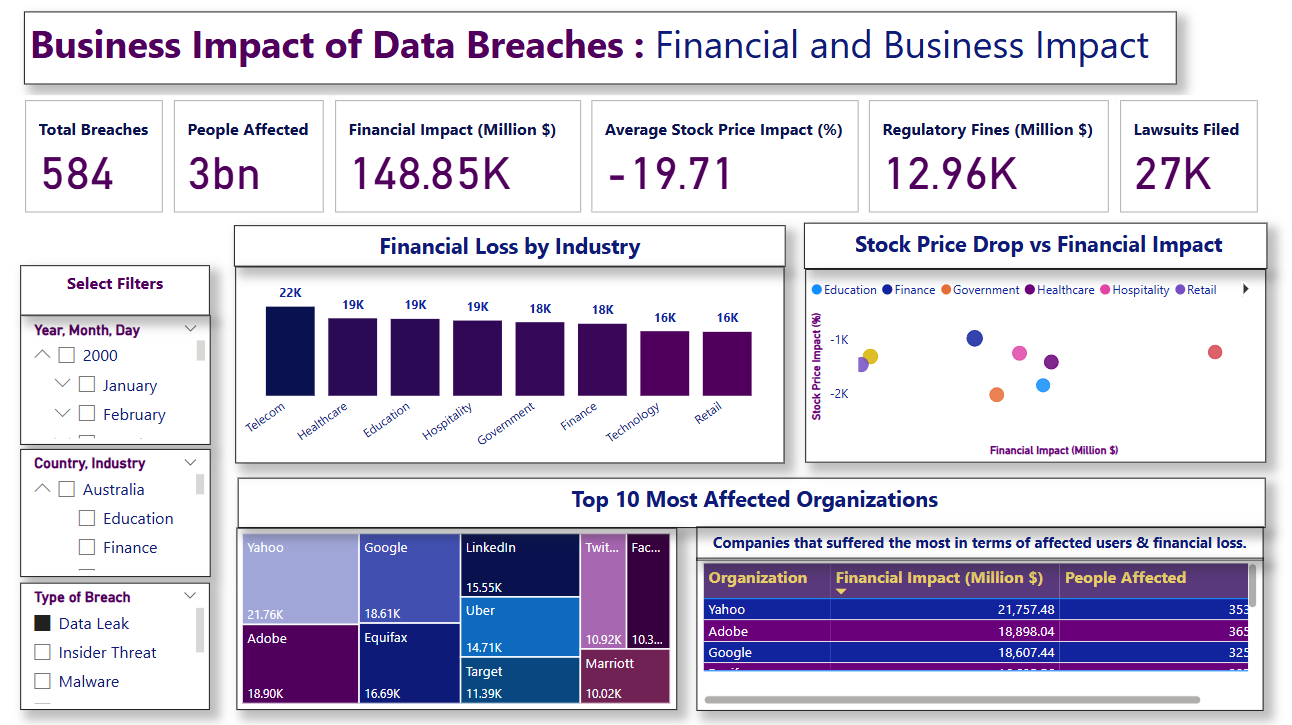

The page's visual inventory and layout, read from the dashboard file:
{"tool":"powerbi","page":{"name":"Financial & Business Impact","canvas":[1280,720],"ordinal":1},"visuals":[{"type":"textbox","box":[232.2,223.3,545.1,40.6],"z":0,"group":"g7"},{"type":"group","id":"g1","title":"Group 8","box":[20.6,312.8,188.1,389.5],"z":0,"group":"g5"},{"type":"group","id":"g2","title":"Group 1","box":[235.1,473.1,1016,230.5],"z":0},{"type":"group","id":"g3","title":"Group 2","box":[232.2,223.3,545.1,235.1],"z":1000},{"type":"textbox","box":[20.6,263,187.6,49.8],"z":1000,"group":"g5"},{"type":"group","id":"g4","title":"Group 3","box":[794.7,221.4,457.8,237.3],"z":2000},{"type":"textbox","box":[794.7,221.4,457.8,45.8],"z":2000,"group":"g4"},{"type":"group","id":"g5","title":"Group 9","box":[20.6,263,188.1,440.8],"z":3000},{"type":"clusteredColumnChart","fields":{"Y":["Sum(Sheet1.Financial Impact (Million $))"],"Category":["Sheet1.Industry"]},"box":[233,264.3,542.2,194.1],"z":3000,"group":"g7"},{"type":"slicer","fields":{"Values":["Sheet1.Date of Breach.Variation.Date Hierarchy.Year","Sheet1.Date of Breach.Variation.Date Hierarchy.Month","Sheet1.Date of Breach.Variation.Date Hierarchy.Day"]},"box":[20.6,312.8,188.1,127.9],"z":3000,"group":"g1"},{"type":"textbox","box":[25,11.8,1138.8,72],"z":4000},{"type":"scatterChart","fields":{"Y":["Sum(Sheet1.Stock Price Impact (%))"],"Size":["Avg(Sheet1.People Affected)"],"X":["Sum(Sheet1.Financial Impact (Million $))"],"Series":["Sheet1.Industry"]},"box":[796.5,267.2,455.4,191.6],"z":4000,"group":"g4"},{"type":"slicer","fields":{"Values":["Sheet1.Country","Sheet1.Industry"]},"box":[20.6,444.8,187.7,126.4],"z":4000,"group":"g1"},{"type":"group","id":"g6","title":"Group 7","box":[20.6,95.5,1228.4,122],"z":5000},{"type":"slicer","fields":{"Values":["Sheet1.Type of Breach"]},"box":[20.8,576.9,187.6,125.4],"z":5000,"group":"g1"},{"type":"group","id":"g7","title":"Group 4","box":[232.2,223.3,545.1,235.1],"z":5001,"group":"g3"},{"type":"cardVisual","fields":{"Data":["Avg(Sheet1.Stock Price Impact (%))"]},"box":[579.9,95.5,274.5,122],"z":6000,"group":"g6"},{"type":"tableEx","fields":{"Values":["Sheet1.Organization","Sheet1.Financial Impact (Million $)","Sum(Sheet1.People Affected)"]},"box":[689,552.2,559.8,151.3],"z":6000,"group":"g2"},{"type":"cardVisual","fields":{"Data":["Sheet1.Total Breaches"]},"box":[20.6,95.5,146.9,122],"z":7000,"group":"g6"},{"type":"treemap","fields":{"Group":["Sheet1.Organization"],"Values":["Sum(Sheet1.Financial Impact (Million $))"]},"box":[235.1,522.2,435.2,180.2],"z":7000,"group":"g2"},{"type":"cardVisual","fields":{"Data":["Sum(Sheet1.Regulatory Fines (Million $))"]},"box":[854.4,95.5,247.8,122],"z":8000,"group":"g6"},{"type":"textbox","box":[235.8,473.1,1015.3,50],"z":8000,"group":"g2"},{"type":"cardVisual","fields":{"Data":["Sum(Sheet1.Lawsuits Filed)"]},"box":[1102.1,95.5,146.9,122],"z":9000,"group":"g6"},{"type":"textbox","box":[689,521.4,559.8,33.8],"z":9000,"group":"g2"},{"type":"cardVisual","fields":{"Data":["Sum(Sheet1.People Affected)"]},"box":[167.5,95.5,158.7,122],"z":10000,"group":"g6"},{"type":"cardVisual","fields":{"Data":["Sum(Sheet1.Financial Impact (Million $))"]},"box":[326.2,95.5,253.7,122],"z":11000,"group":"g6"}]}

Visuals, with their boxes in screenshot pixels (x1, y1, x2, y2), scaled from the page's 1280x720 canvas onto the 1292x725 screenshot:
textbox: [234,225,785,266]
"Group 8" group: [21,315,211,707]
"Group 1" group: [237,476,1263,708]
"Group 2" group: [234,225,785,462]
textbox: [21,265,210,315]
"Group 3" group: [802,223,1264,462]
textbox: [802,223,1264,269]
"Group 9" group: [21,265,211,709]
clusteredColumnChart - Sum(Sheet1.Financial Impact (Million $)) x Sheet1.Industry: [235,266,782,462]
slicer - Sheet1.Date of Breach.Variation.Date Hierarchy.Year x Sheet1.Date of Breach.Variation.Date Hierarchy.Month: [21,315,211,444]
textbox: [25,12,1175,84]
scatterChart - Sum(Sheet1.Stock Price Impact (%)) x Avg(Sheet1.People Affected): [804,269,1264,462]
slicer - Sheet1.Country x Sheet1.Industry: [21,448,210,575]
"Group 7" group: [21,96,1261,219]
slicer - Sheet1.Type of Breach: [21,581,210,707]
"Group 4" group: [234,225,785,462]
cardVisual - Avg(Sheet1.Stock Price Impact (%)): [585,96,862,219]
tableEx - Sheet1.Organization x Sheet1.Financial Impact (Million $): [695,556,1261,708]
cardVisual - Sheet1.Total Breaches: [21,96,169,219]
treemap - Sheet1.Organization x Sum(Sheet1.Financial Impact (Million $)): [237,526,677,707]
cardVisual - Sum(Sheet1.Regulatory Fines (Million $)): [862,96,1113,219]
textbox: [238,476,1263,527]
cardVisual - Sum(Sheet1.Lawsuits Filed): [1112,96,1261,219]
textbox: [695,525,1261,559]
cardVisual - Sum(Sheet1.People Affected): [169,96,329,219]
cardVisual - Sum(Sheet1.Financial Impact (Million $)): [329,96,585,219]
